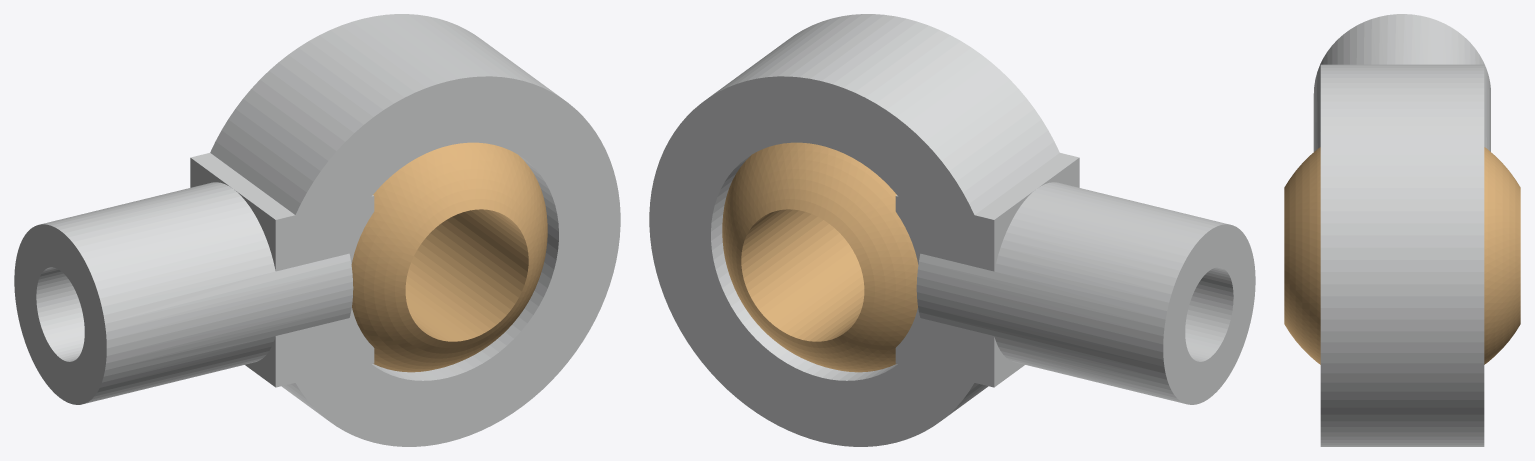
File: rod_end_single_body_full_sphere_both_sides_m8.glb
The picture shows the model from 3 angles, left to right: view 1: azimuth 30°, elevation 25°; view 2: azimuth 150°, elevation 25°; view 3: azimuth 270°, elevation 25°; orthographic projection. The views are drawn at different scales.
Parts seen in each view (by area): view 1: steel_0, accent-faces_1; view 2: steel_0, accent-faces_1; view 3: steel_0, accent-faces_1.
Part boxes in pixels (x1=…): steel_0: x1=14, y1=14, x2=620, y2=446; accent-faces_1: x1=351, y1=142, x2=547, y2=372; steel_0: x1=649, y1=14, x2=1255, y2=446; accent-faces_1: x1=722, y1=142, x2=918, y2=372; steel_0: x1=1313, y1=14, x2=1490, y2=446; accent-faces_1: x1=1284, y1=147, x2=1520, y2=364.
Bounding box in the file's own units: 41.99 × 28 × 17.32.
